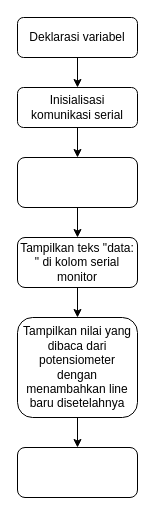
Image size: 155x515. Some labels were removed from this diagram. Each missing label, with the centre of its shape:
"Baca nilai analog dari potensiometer" belongs at (x=77, y=182).
"delay 100 milidetik" belongs at (x=77, y=472).
